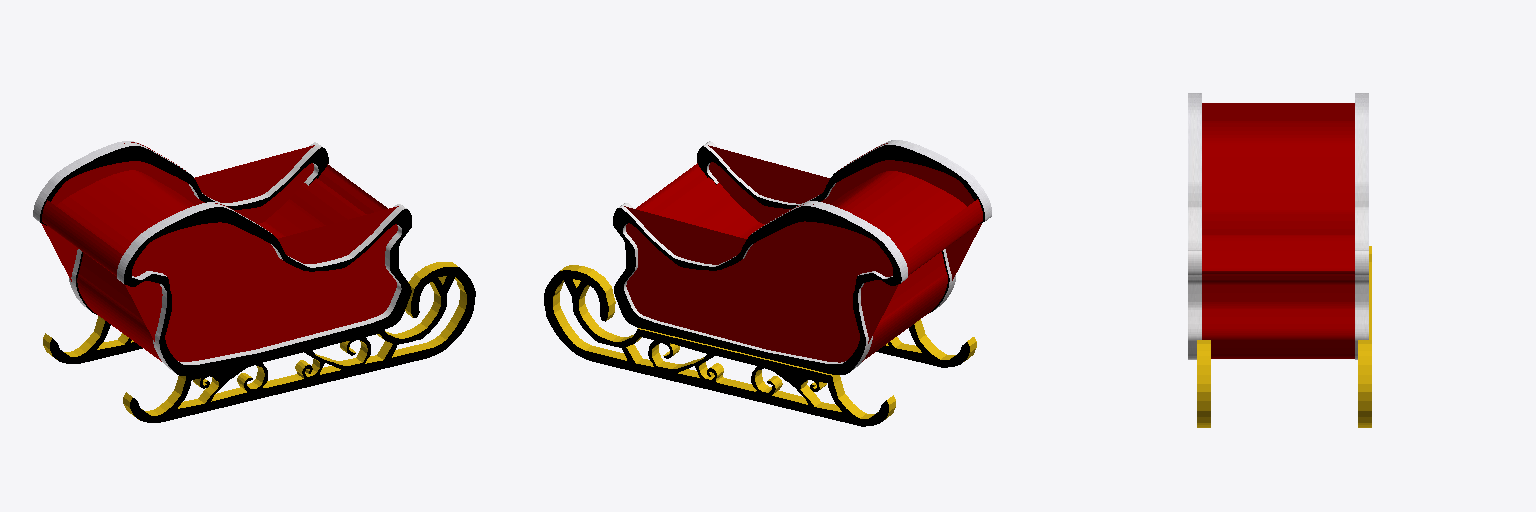
3 renders of one model, left to right at view 1: azimuth 30°, elevation 25°; view 2: azimuth 150°, elevation 25°; view 3: azimuth 270°, elevation 25°, orthographic.
Parts seen in each view (by area): view 1: sled:polySurface35group; view 2: sled:polySurface35group; view 3: sled:polySurface35group.
Part boxes in pixels (x1,y1,x2,y2): sled:polySurface35group: (33, 141, 475, 422); sled:polySurface35group: (544, 140, 991, 426); sled:polySurface35group: (1188, 93, 1371, 427).
Bounding box in the file's own units: 13.82 × 7.69 × 6.17.
Materials: 4 (3 with a texture image).